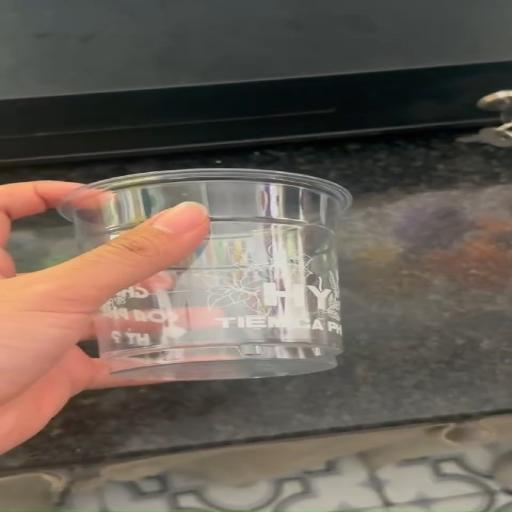Ly_giay: (59, 168, 350, 380)
ly_nhua: (59, 168, 350, 380)
